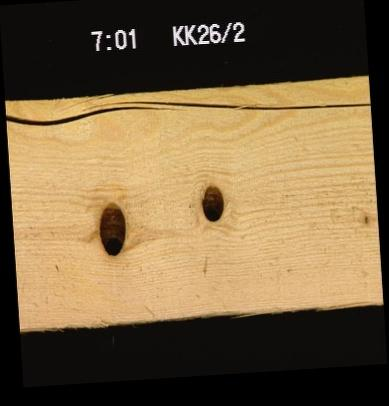split: (5, 94, 369, 120)
wave: (199, 293, 382, 318)
